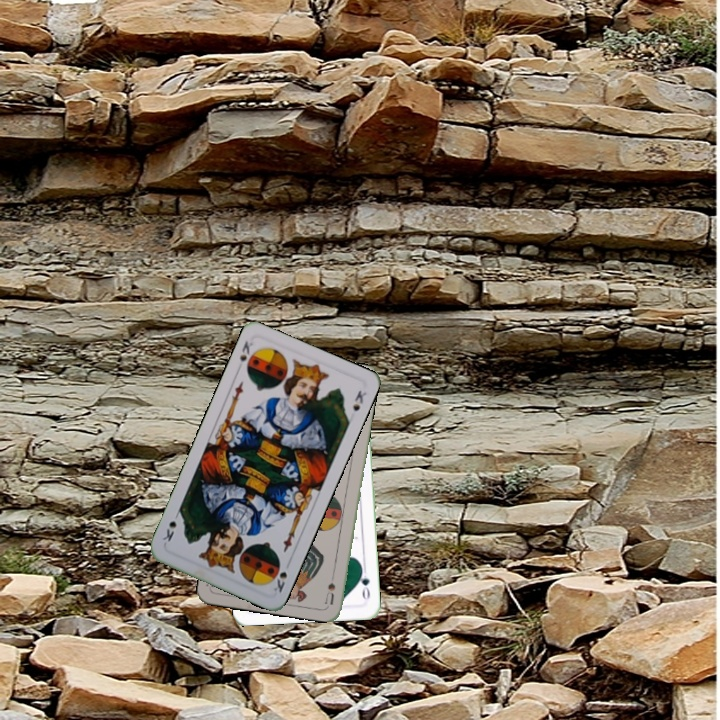GO: (355, 563, 372, 603)
SK: (233, 337, 259, 374), (269, 567, 290, 595)
SU: (320, 578, 338, 606)
